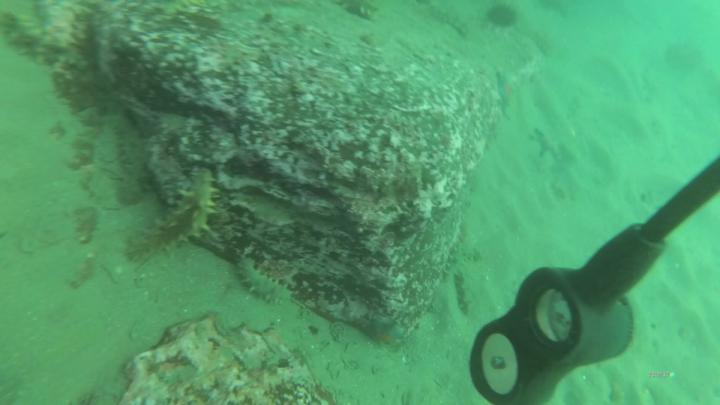echinus: (483, 2, 520, 33)
holothurian: (122, 163, 221, 271), (234, 253, 296, 310), (454, 269, 475, 317)
starfish: (368, 314, 408, 349)
